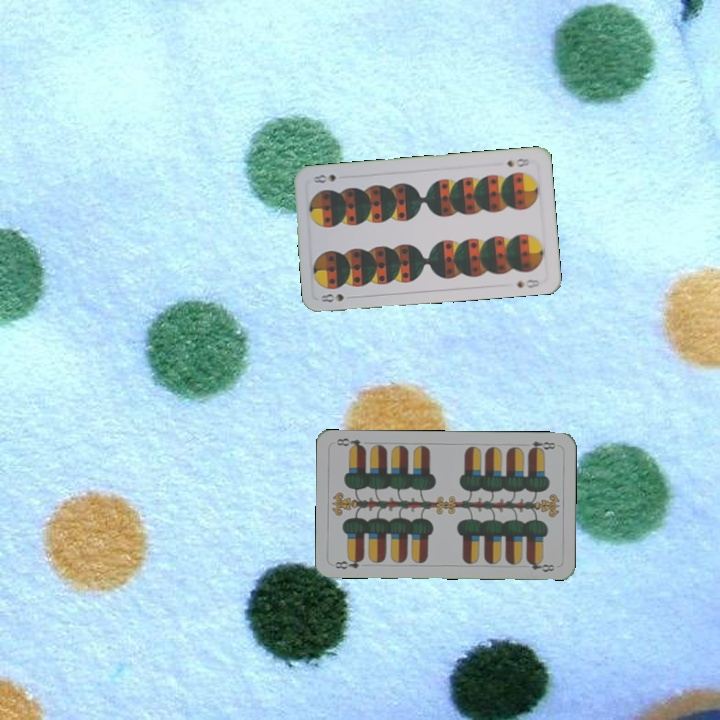E8: (331, 554, 366, 571), (525, 437, 558, 454)
S8: (503, 154, 534, 170), (317, 290, 346, 305)
